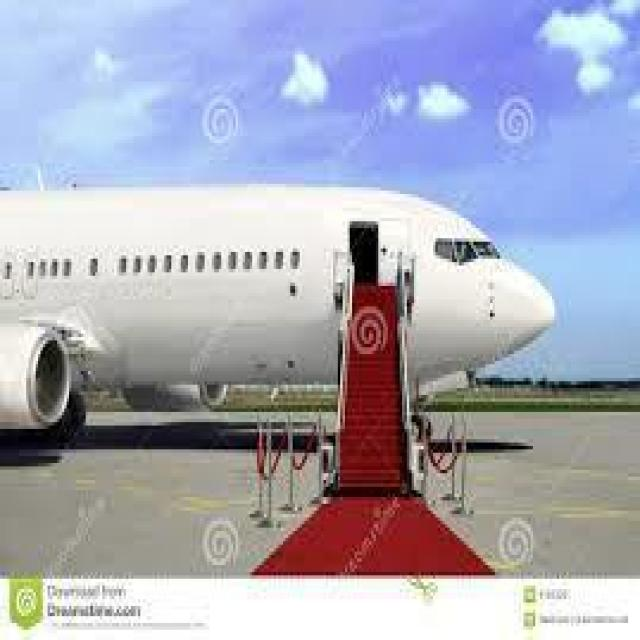Tanks: (14, 154, 569, 466)
